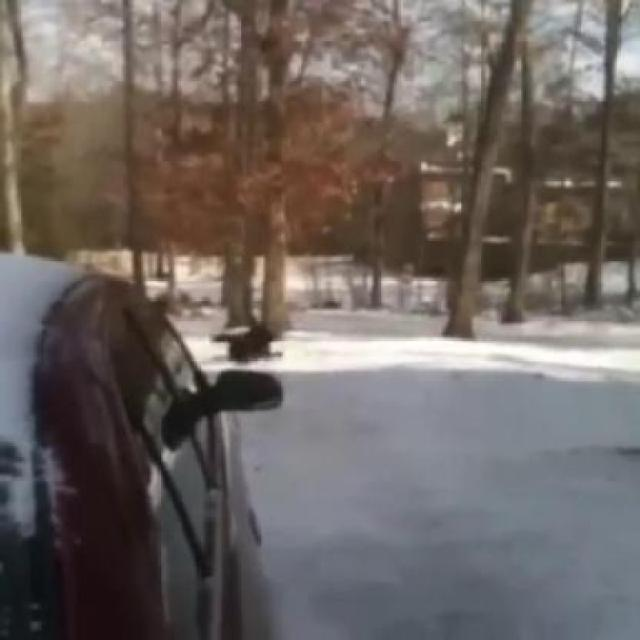fall: (209, 321, 289, 370)
